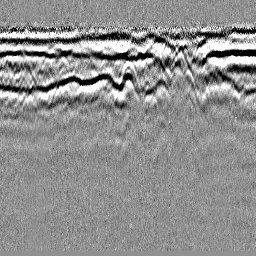cavity: (114, 58, 142, 103)
